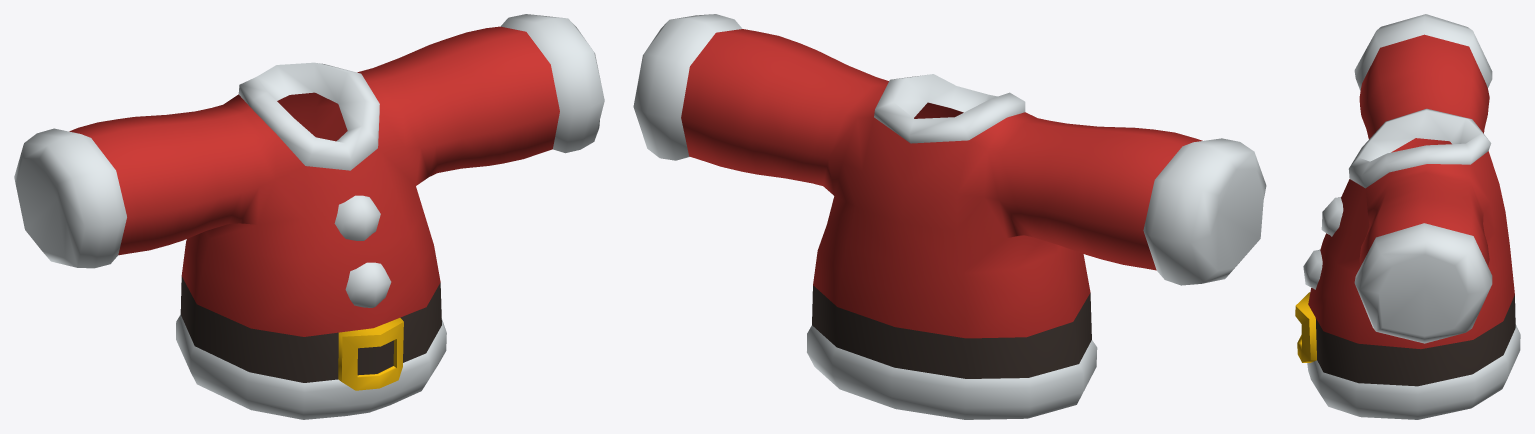
File: Top_74.fbx
3 views of the same model, side by side, from view 1: azimuth 30°, elevation 25°; view 2: azimuth 150°, elevation 25°; view 3: azimuth 270°, elevation 25° (orthographic). The views are drawn at different scales.
Parts seen in each view (by area): view 1: Top_74; view 2: Top_74; view 3: Top_74.
Boxes of the visible parts, box(x1,y1,x2,y2) form: Top_74: box(14, 14, 604, 419); Top_74: box(633, 14, 1266, 419); Top_74: box(1295, 14, 1520, 419).
Bounding box in the file's own units: 98.43 × 51.18 × 39.95.
